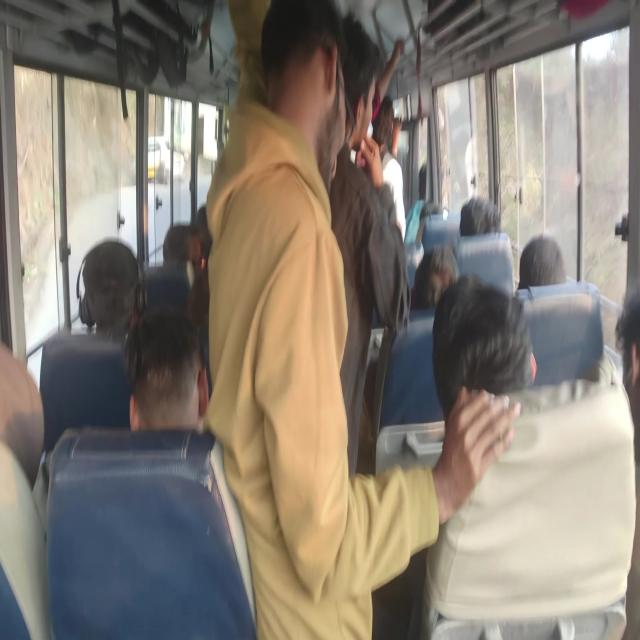person: (267, 30, 348, 204), (442, 273, 526, 425), (77, 240, 171, 372), (138, 282, 210, 442), (0, 357, 42, 508), (416, 239, 474, 347), (339, 21, 369, 170), (617, 307, 640, 471), (524, 250, 566, 306), (166, 216, 204, 268), (461, 198, 498, 250), (368, 86, 396, 144), (190, 196, 218, 247), (418, 154, 448, 198), (419, 192, 446, 228)
